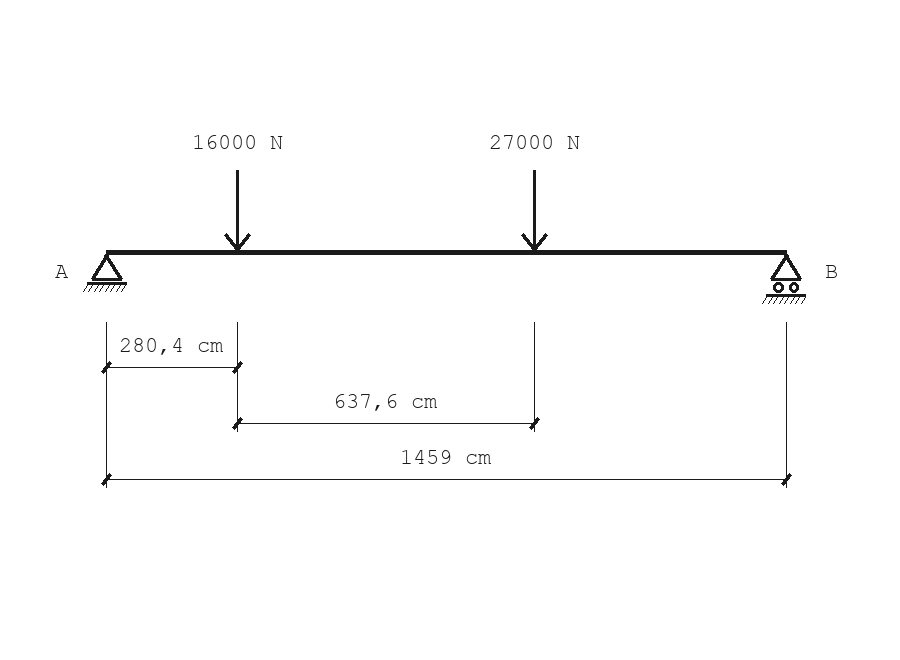pin_support: (83, 254, 127, 292)
point_load: (224, 170, 251, 251), (521, 170, 548, 251)
roller_support: (762, 254, 806, 304)
